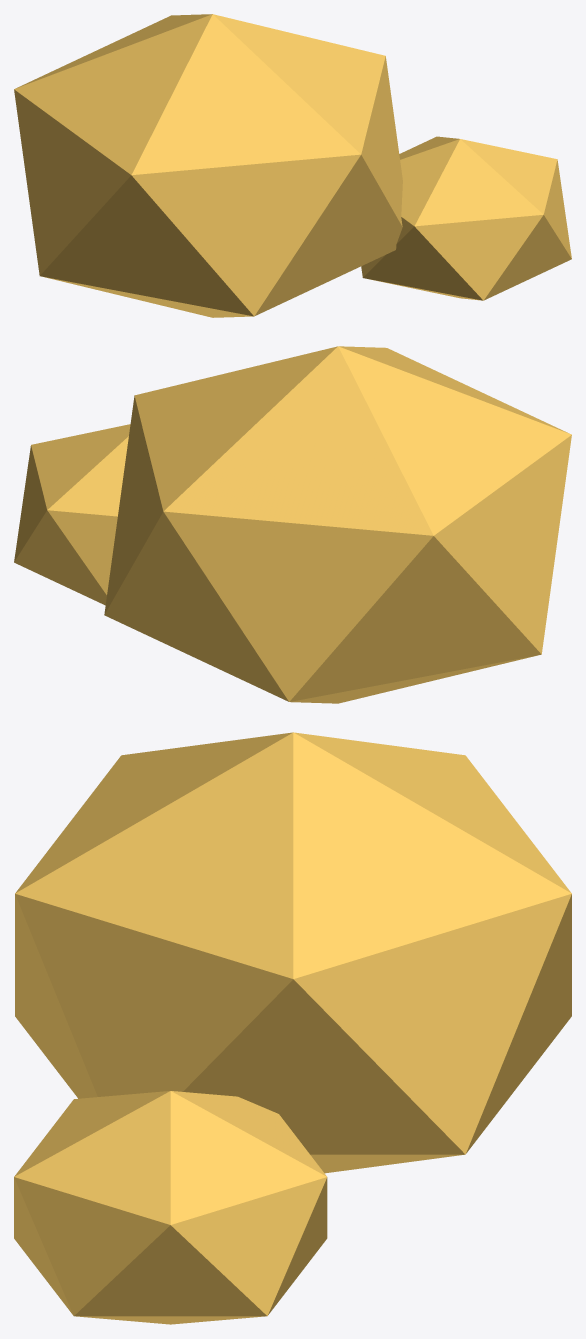
Rendered from scenery3.glb.
The picture shows the model from 3 angles, top to bottom: view 1: azimuth 30°, elevation 25°; view 2: azimuth 150°, elevation 25°; view 3: azimuth 270°, elevation 25°; orthographic projection. The views are drawn at different scales.
Parts seen in each view (by area): view 1: root_mesh; view 2: root_mesh; view 3: root_mesh.
Boxes of the visible parts, x1,y1,x2,y2 form: root_mesh: (14, 14, 571, 317); root_mesh: (14, 346, 571, 703); root_mesh: (14, 732, 571, 1324).
Bounding box in the file's own units: 1.97 × 1.2 × 1.36.
